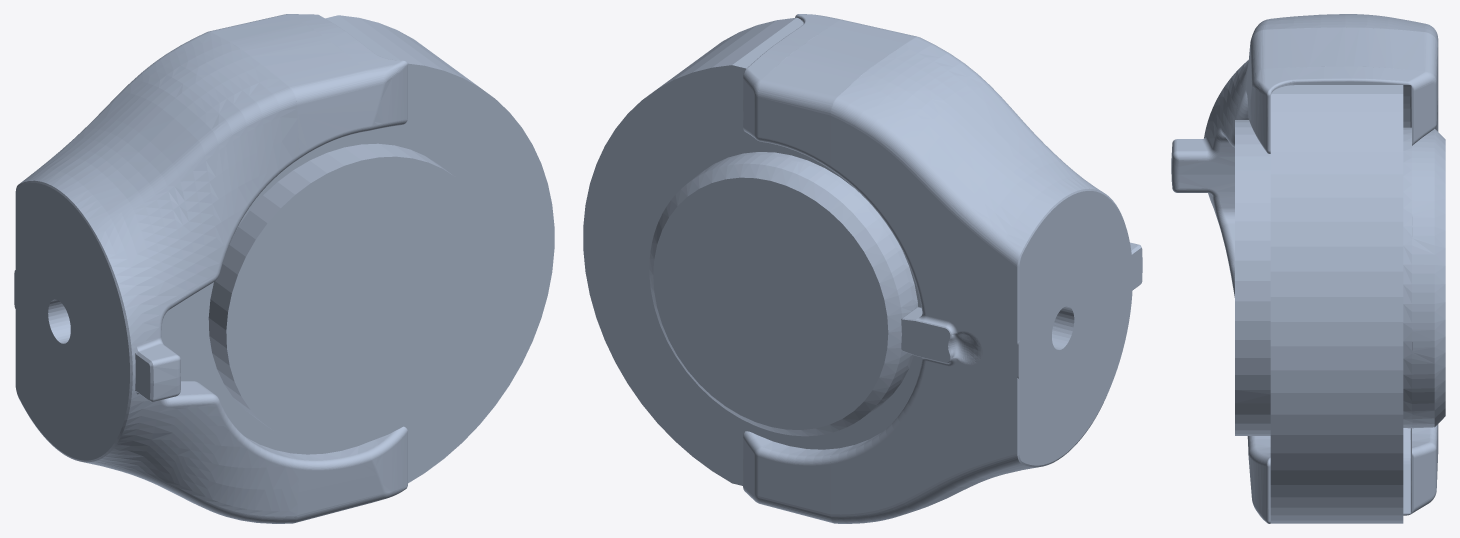
Rendered from hip.dae.
3 views of the same model, side by side, from view 1: azimuth 30°, elevation 25°; view 2: azimuth 150°, elevation 25°; view 3: azimuth 270°, elevation 25° (orthographic). The views are drawn at different scales.
Parts seen in each view (by area): view 1: 大腿电机; view 2: 大腿电机; view 3: 大腿电机.
Part boxes in pixels (<box>): 大腿电机: <box>14,14,554,523</box>; 大腿电机: <box>583,14,1142,523</box>; 大腿电机: <box>1171,14,1445,523</box>.
Size of the model in its own units: 0.1047 by 0.0538 by 0.0963.
